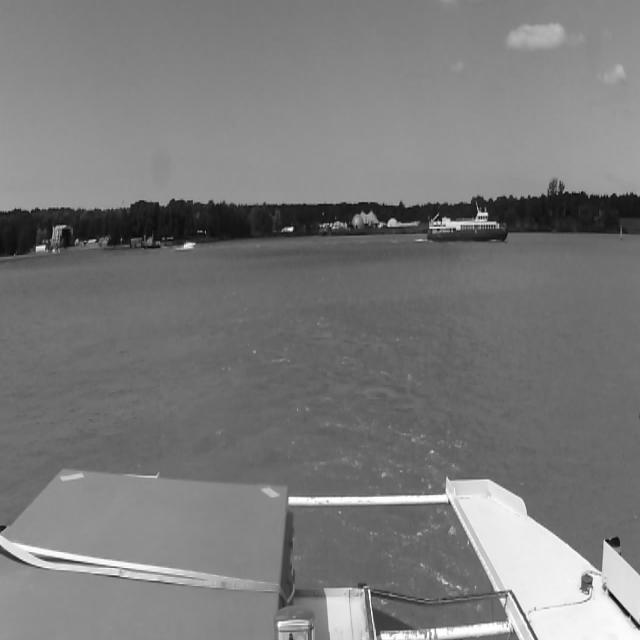ship: (426, 205, 508, 241), (182, 238, 194, 252)
